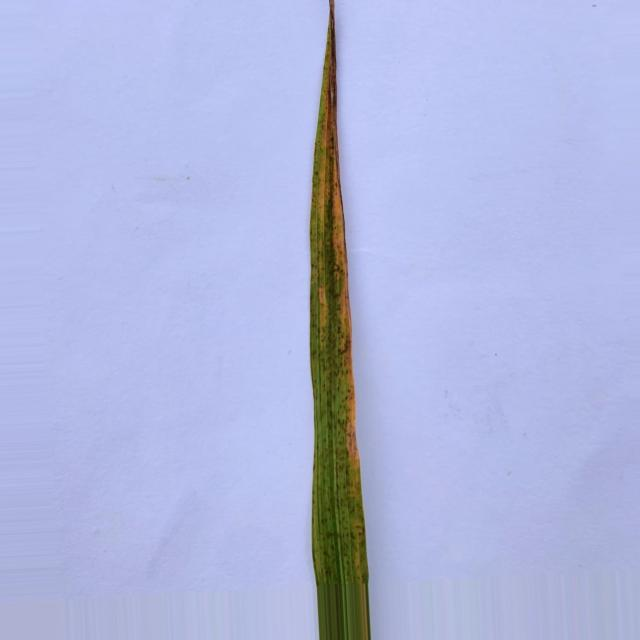Rice Tungro: (330, 252, 361, 493), (310, 158, 348, 276), (324, 30, 337, 151), (311, 286, 327, 328)
